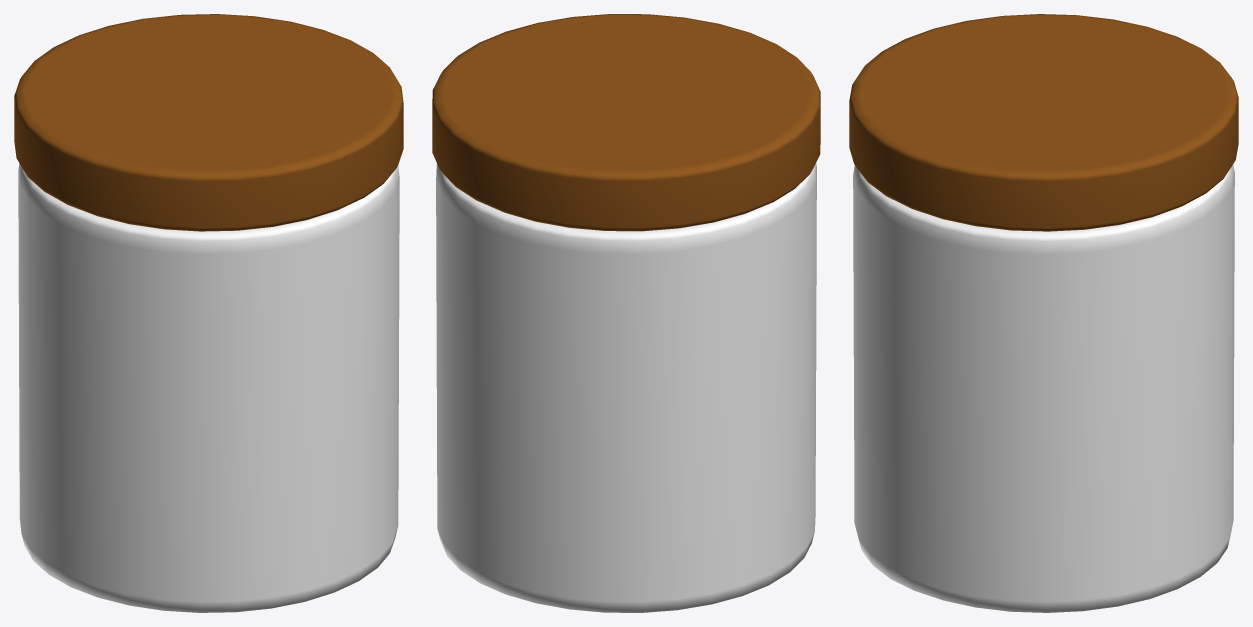
The model's file is SM_jar_full.glb.
3 views of the same model, side by side, from view 1: azimuth 30°, elevation 25°; view 2: azimuth 150°, elevation 25°; view 3: azimuth 270°, elevation 25° (orthographic).
Parts seen in each view (by area): view 1: SM_jar_full; view 2: SM_jar_full; view 3: SM_jar_full.
Part boxes in pixels (box(x1,y1,x2,y2)): SM_jar_full: box(14, 14, 403, 612); SM_jar_full: box(432, 14, 820, 612); SM_jar_full: box(849, 14, 1238, 612).
Size of the model in its own units: 0.1689 by 0.2127 by 0.1689.
2 materials, 2 textured.
